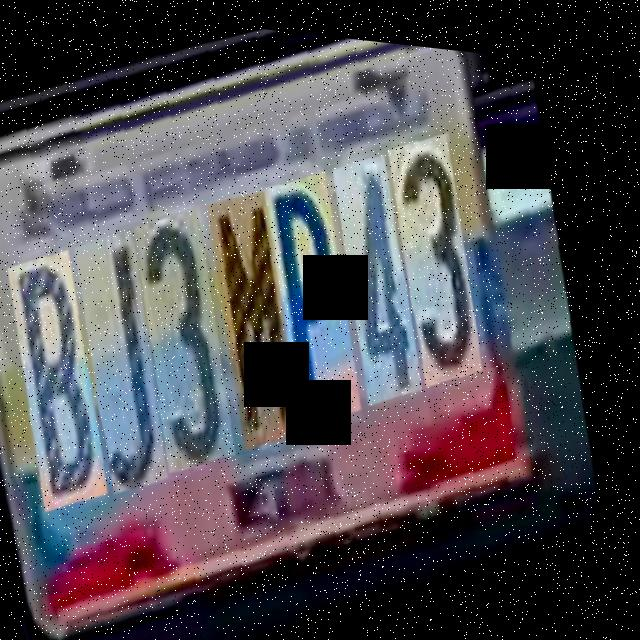3: (102, 196, 285, 472), (357, 111, 531, 378)
4: (301, 135, 469, 397)
B: (0, 241, 159, 516)
J: (45, 221, 221, 495)
M: (175, 176, 352, 446)
P: (232, 155, 409, 422)
